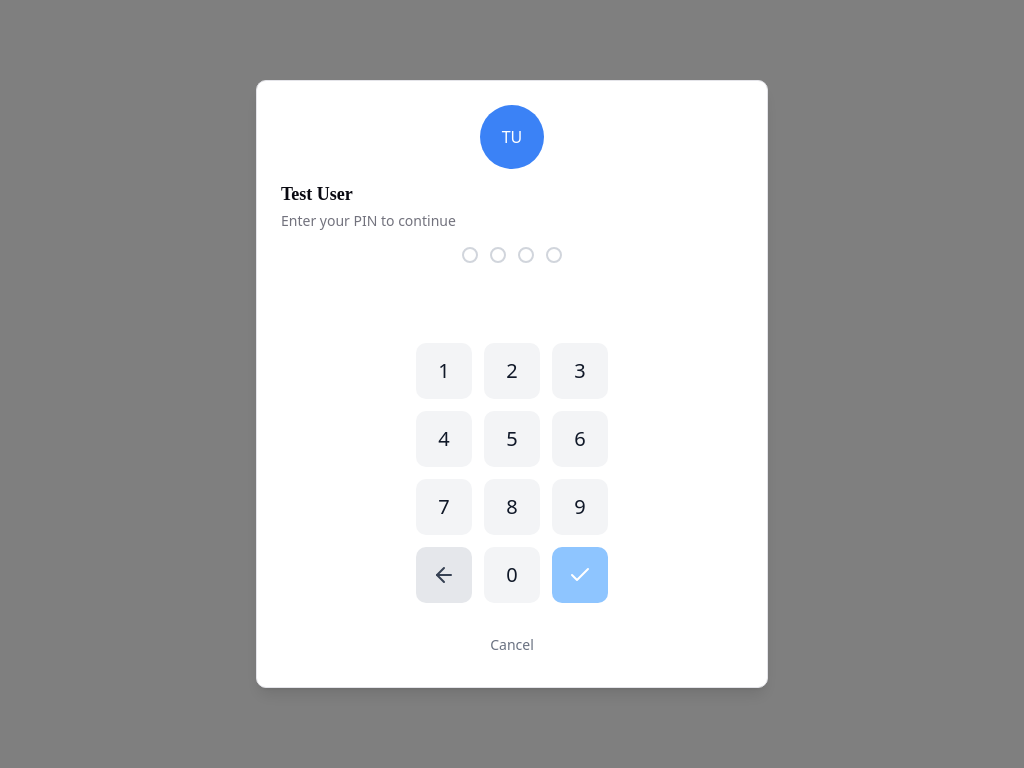
Test: PinEntryModal › lockout › displays lockout timer when locked
This screenshot has width=1024, height=768.
// Enter PIN and submit
Click the button "1". click: [444, 371]
box: [416,343,472,399]
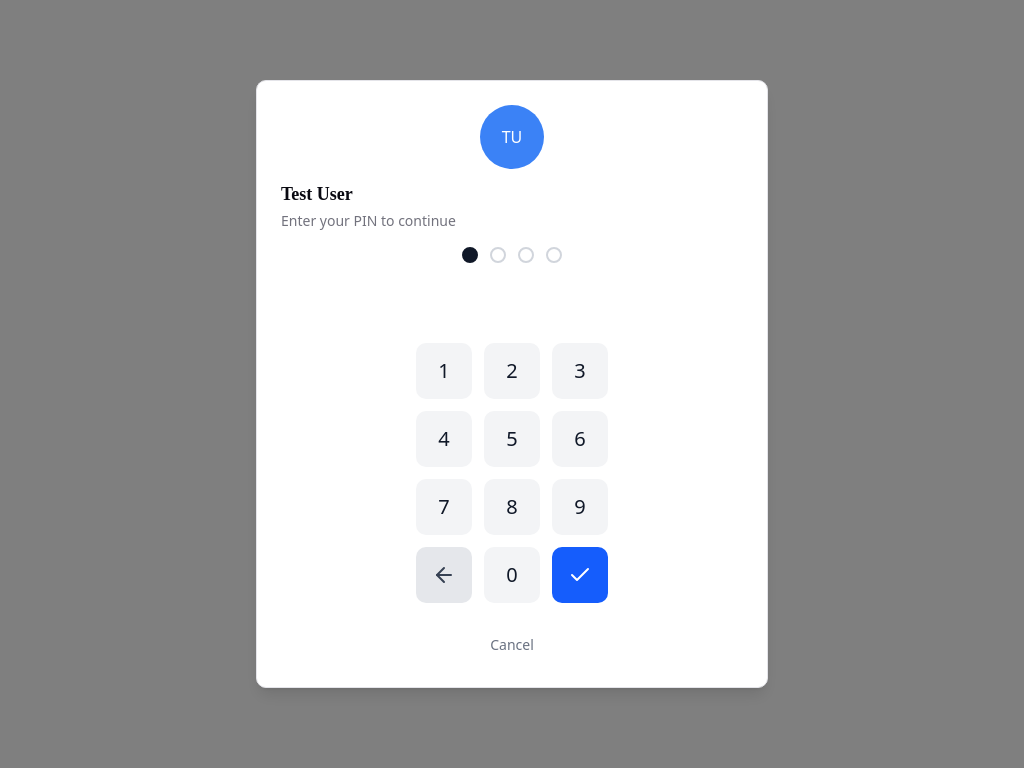
Click the button "2". click: [512, 371]
box: [484,343,540,399]
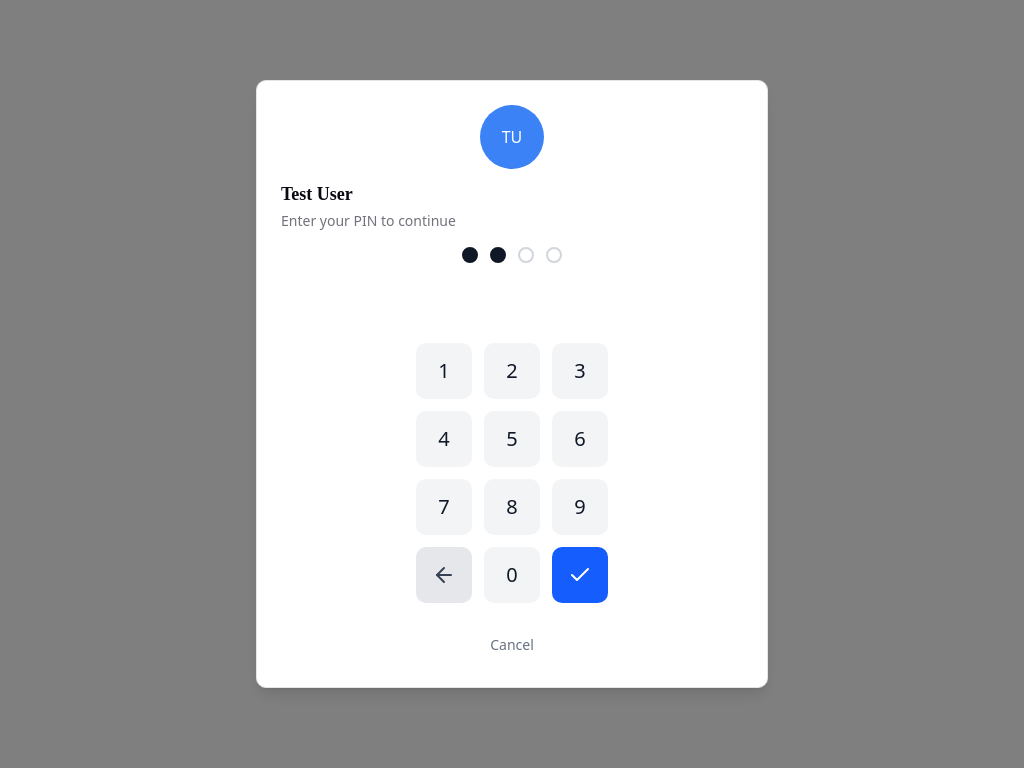
Click the button "3". click: [580, 371]
box: [552,343,608,399]
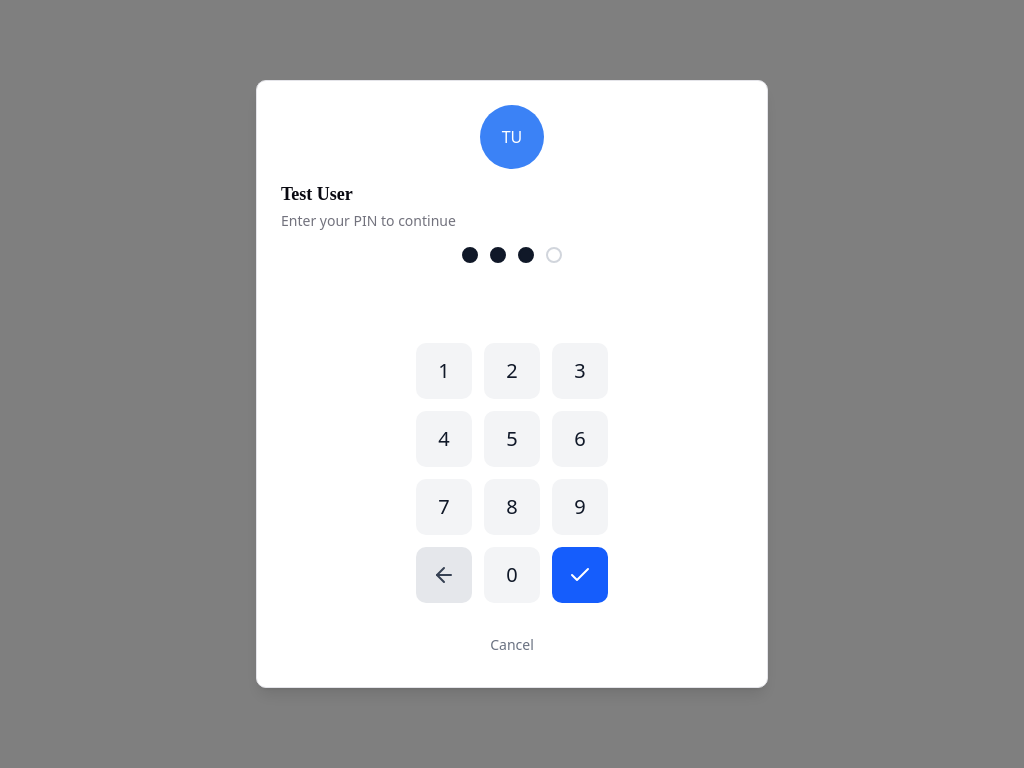
Click the button "4". click: [444, 439]
box: [416,411,472,467]
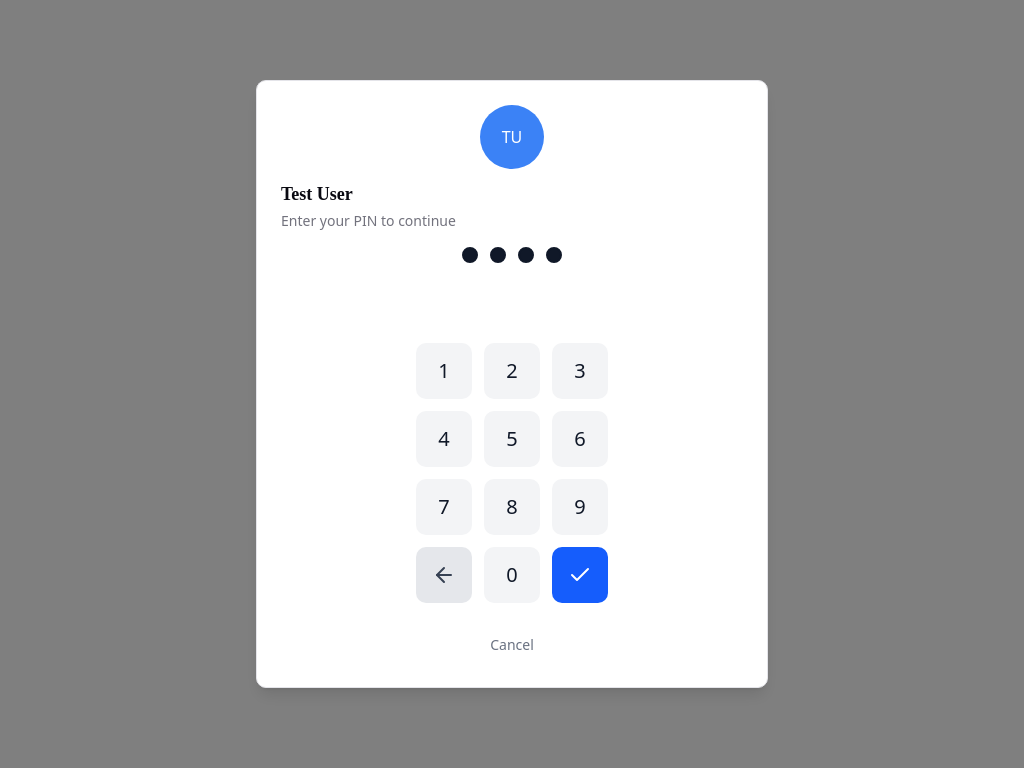
Click the button named "submit". click: [580, 575]
box: [552,547,608,603]
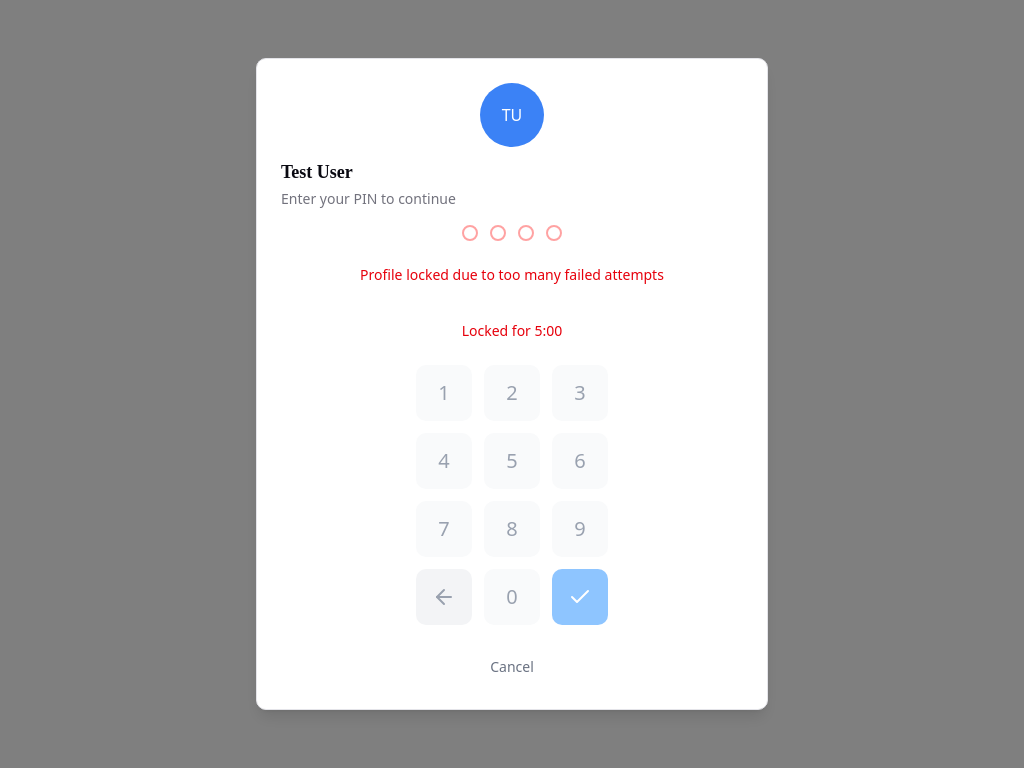
Result: the text "Locked for 5:00" is shown at [462,321,562,341]
